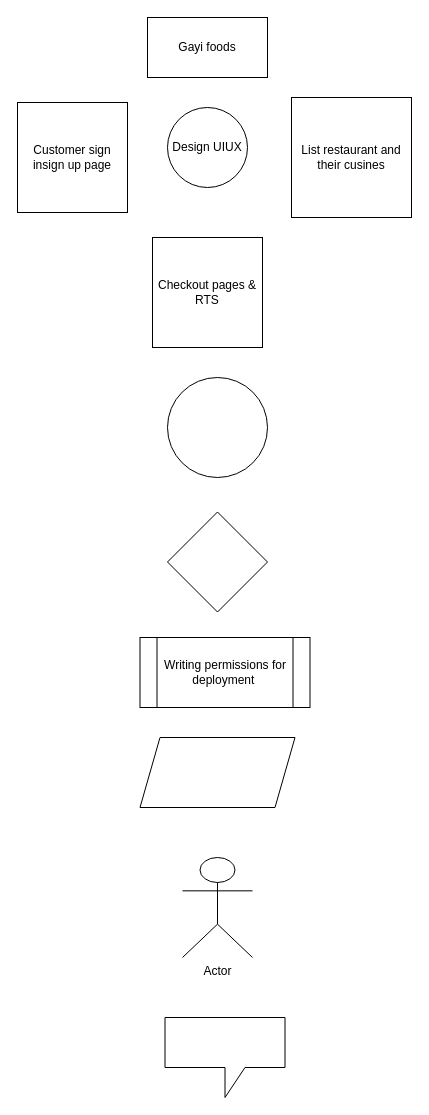
This 429x1115 diagram has some shape labels left out. The shapes that lost their labels are listed below. From the top down, each one's box as (x1, y1, x2, y2) in pixels, then its label:
(166, 376, 268, 478): Compiling code into APK
(166, 511, 268, 612): No bugs found
(139, 736, 295, 808): Pushing Apk for deployment
(164, 1016, 285, 1098): No feedback received
